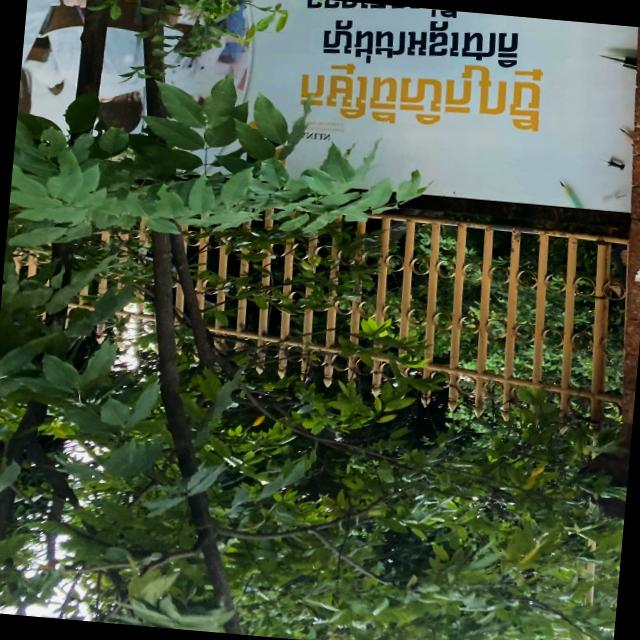Yolov11kh: (297, 61, 549, 138), (315, 18, 525, 65)
